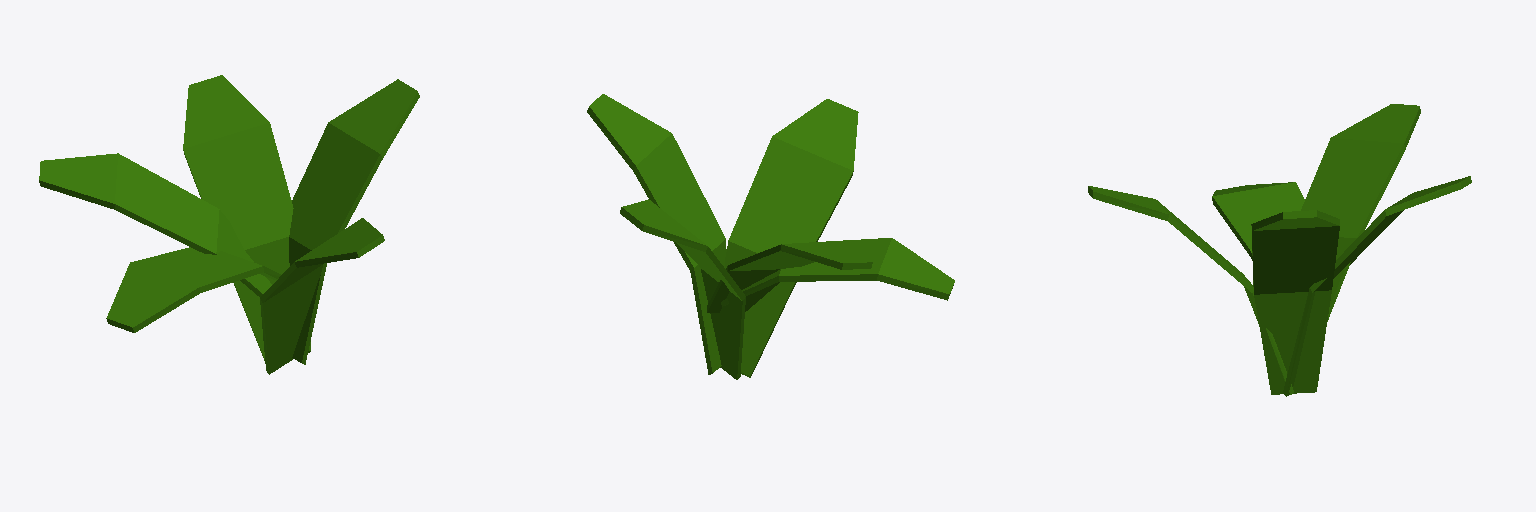
File: shrub.obj
3 views of the same model, side by side, from view 1: azimuth 30°, elevation 25°; view 2: azimuth 150°, elevation 25°; view 3: azimuth 270°, elevation 25° (orthographic).
Parts seen in each view (by area): view 1: Plant.003_Plane.001; view 2: Plant.003_Plane.001; view 3: Plant.003_Plane.001.
Boxes of the visible parts, box(x1,y1,x2,y2) form: Plant.003_Plane.001: box(39, 75, 419, 374); Plant.003_Plane.001: box(587, 94, 954, 379); Plant.003_Plane.001: box(1088, 104, 1471, 396).
Bounding box in the file's own units: 1.62 × 1.16 × 1.62.